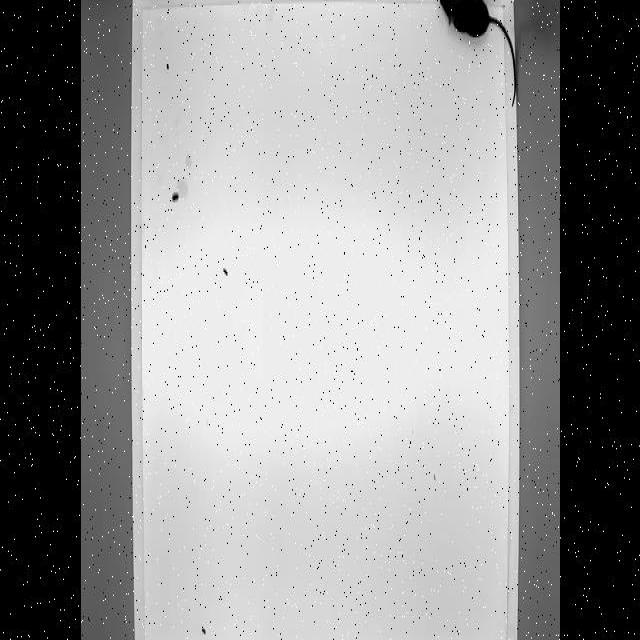rat: (437, 0, 517, 109)
